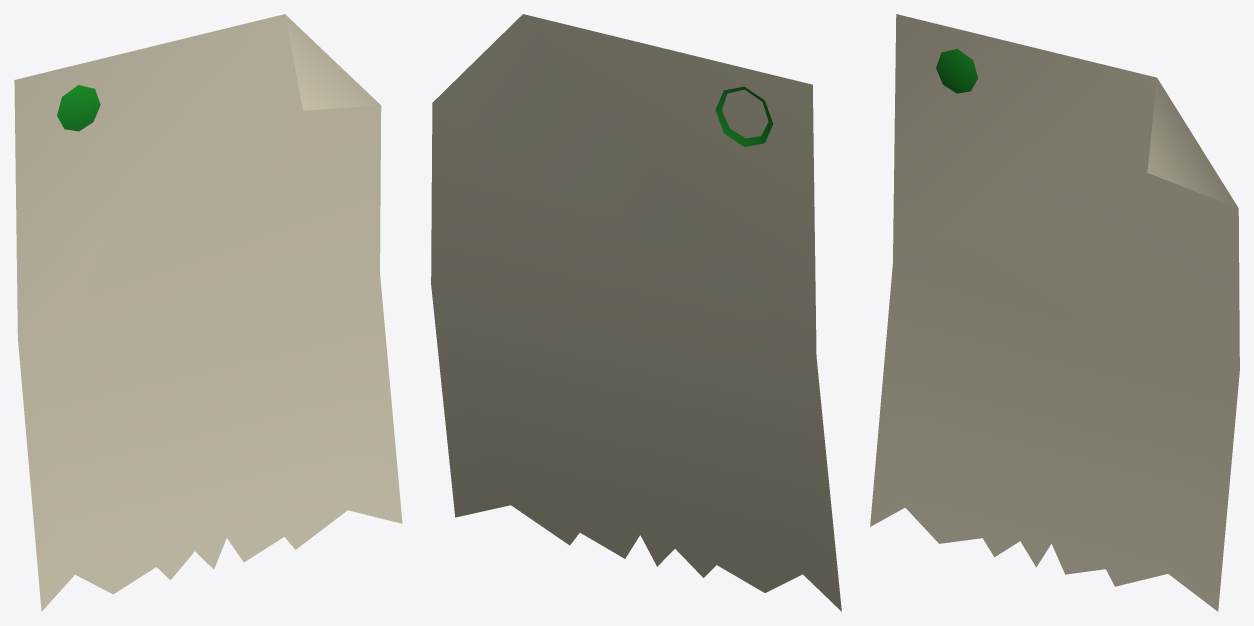
The model's file is OrderNoteModel.fbx.
3 renders of one model, left to right at view 1: azimuth 30°, elevation 25°; view 2: azimuth 150°, elevation 25°; view 3: azimuth 330°, elevation 25°, orthographic. The views are drawn at different scales.
Parts seen in each view (by area): view 1: OrderNote; view 2: OrderNote; view 3: OrderNote.
Boxes of the visible parts, x1,y1,x2,y2 form: OrderNote: (14,14,402,611); OrderNote: (431,14,841,611); OrderNote: (870,14,1239,611).
Size of the model in its own units: 0.2868 by 0.0376 by 0.3888.
